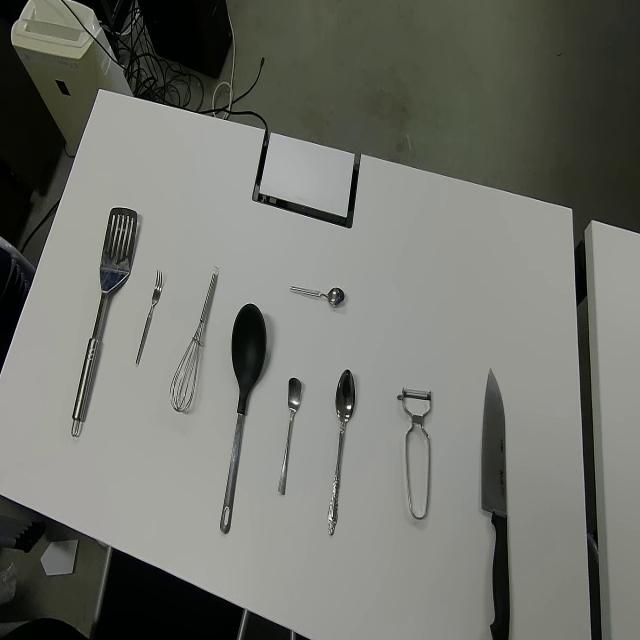Desert-Spoon: (327, 366, 357, 534)
Dinner-Fork: (134, 267, 162, 367)
Kitchen-Knife: (479, 362, 510, 640)
Peeler: (396, 385, 432, 521)
Serving-Spoon: (69, 206, 138, 440), (218, 300, 266, 536)
Tea-Spoon: (277, 375, 302, 496), (289, 282, 345, 306)
Whisk: (168, 262, 220, 413)
